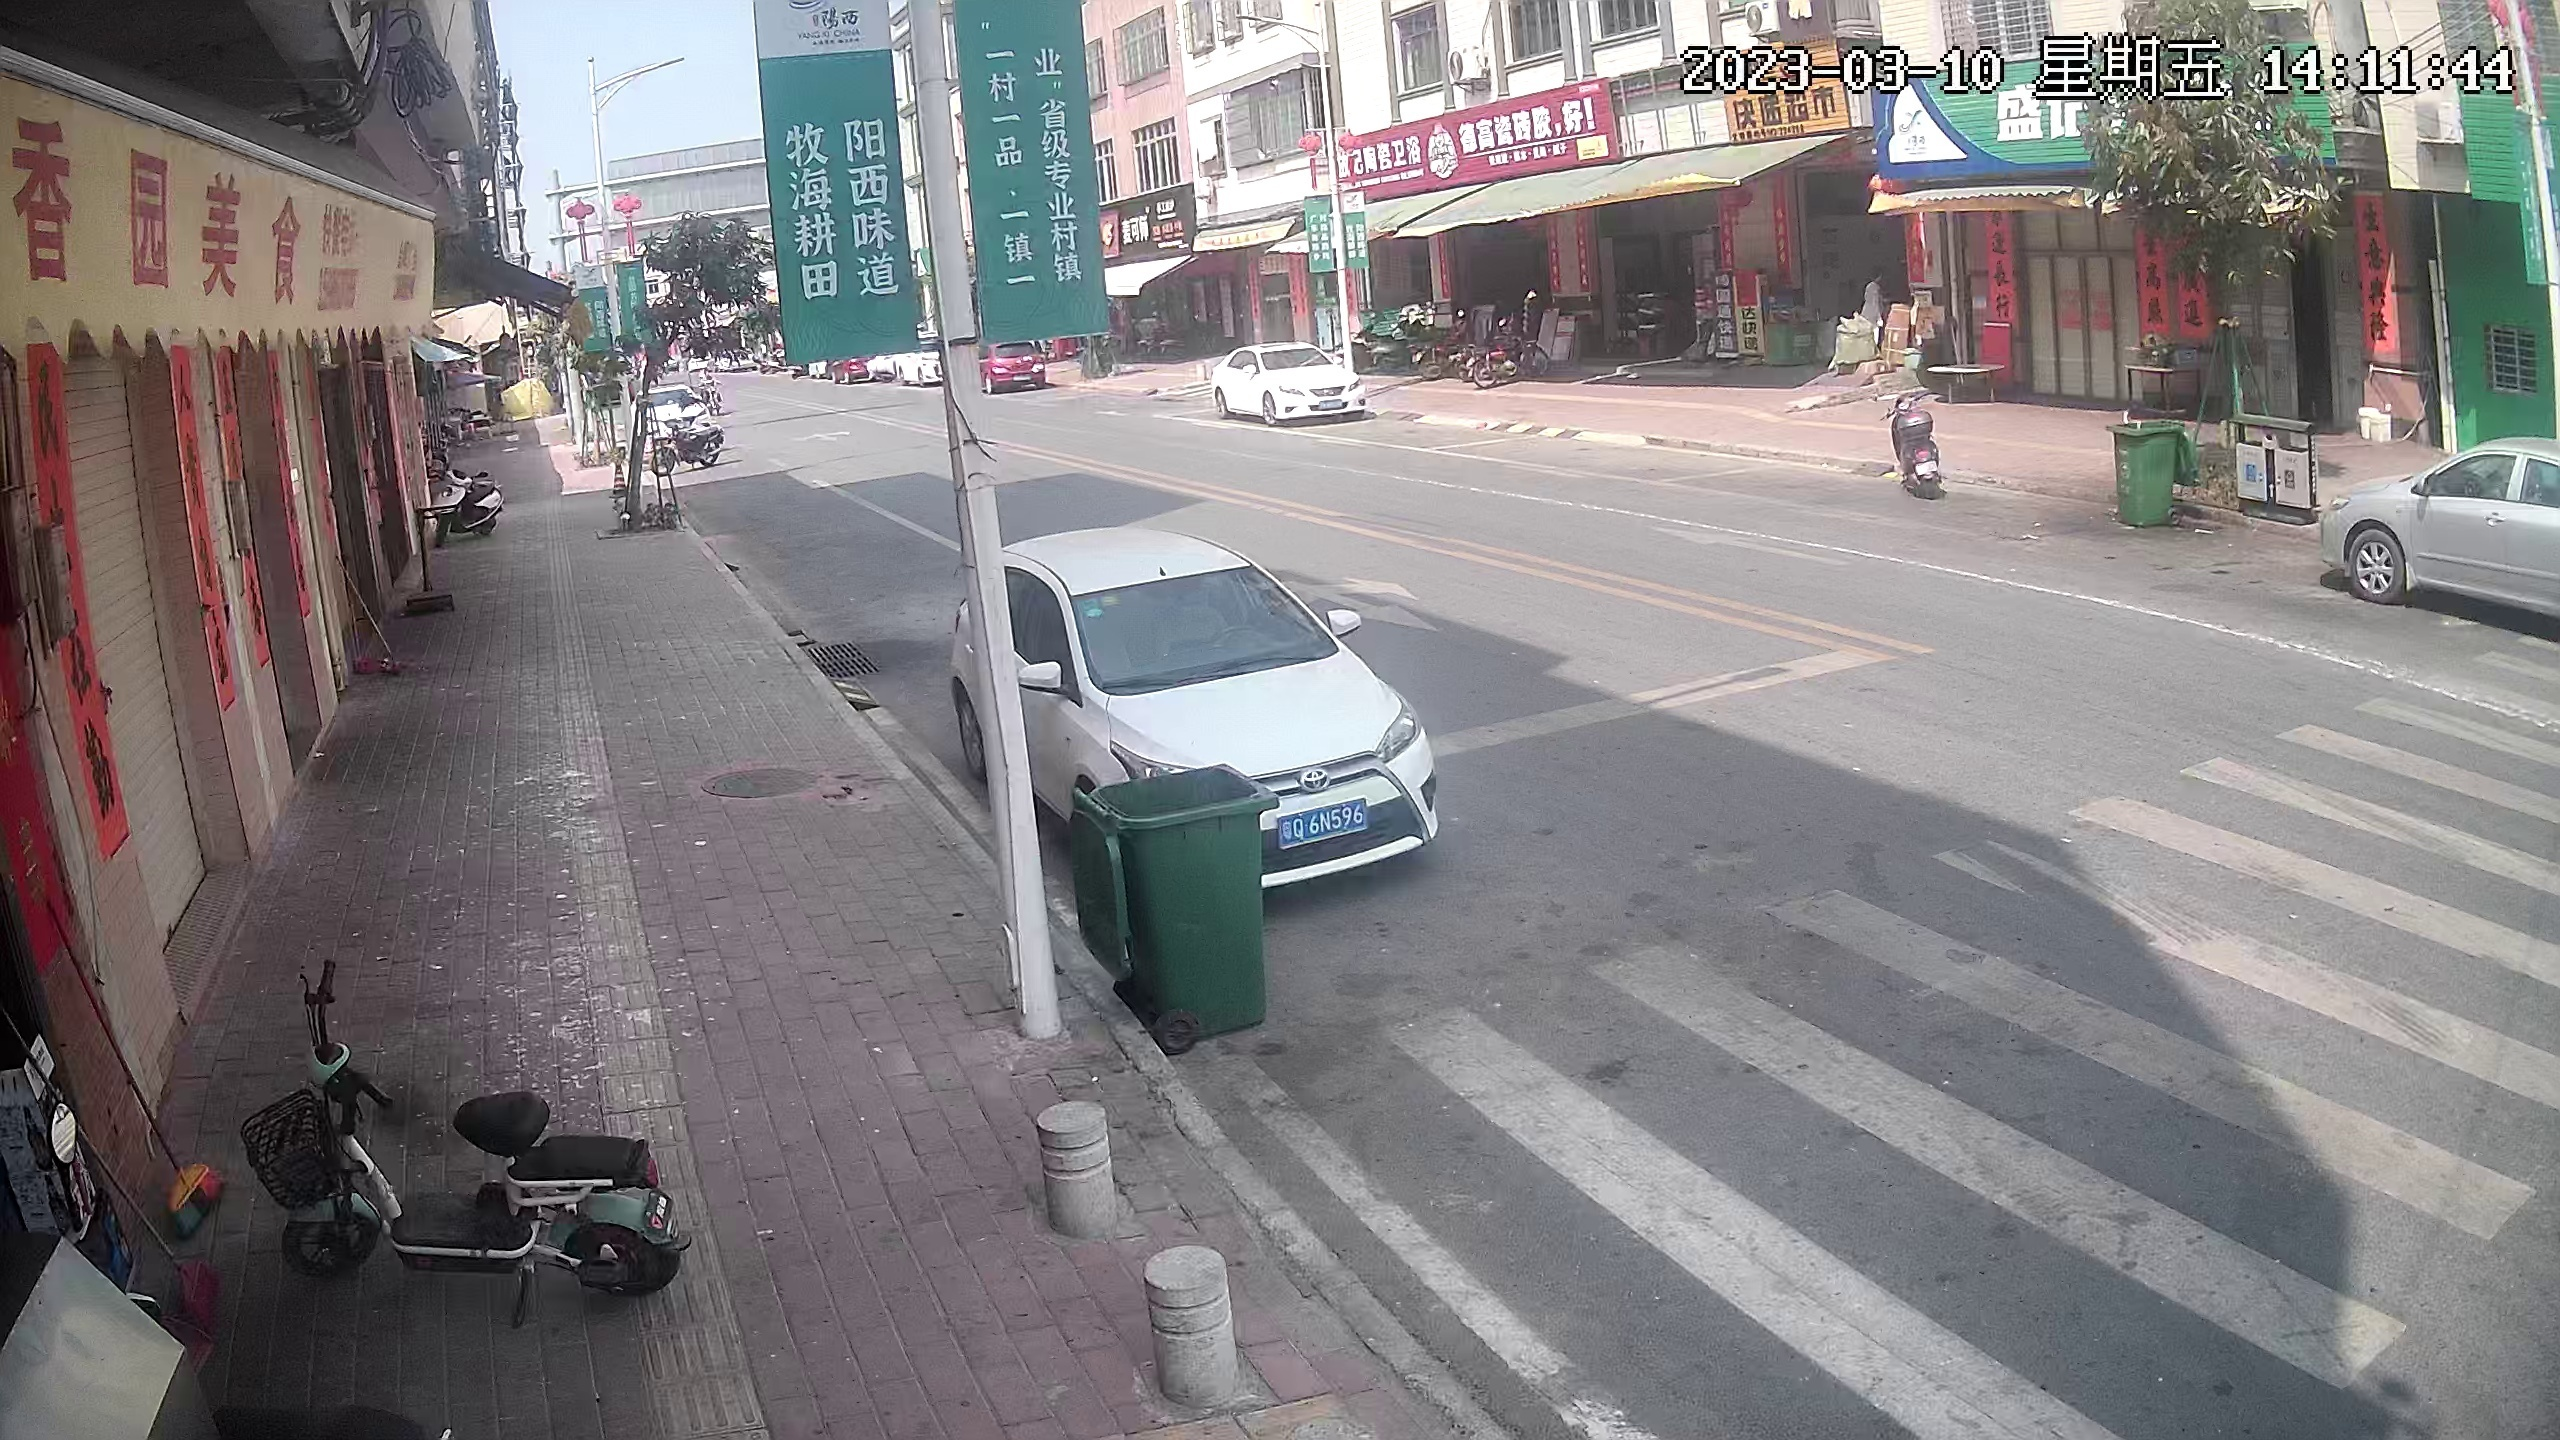head: (1854, 264, 1892, 319)
motorcycle: (252, 953, 693, 1310), (1885, 389, 1950, 512), (432, 464, 503, 545), (1470, 325, 1554, 388), (1413, 319, 1469, 385), (657, 419, 725, 470)
sedan: (945, 532, 1447, 883), (2322, 424, 2560, 635), (1214, 347, 1373, 422), (635, 384, 704, 434), (900, 353, 942, 389)
suv: (979, 343, 1053, 400)
